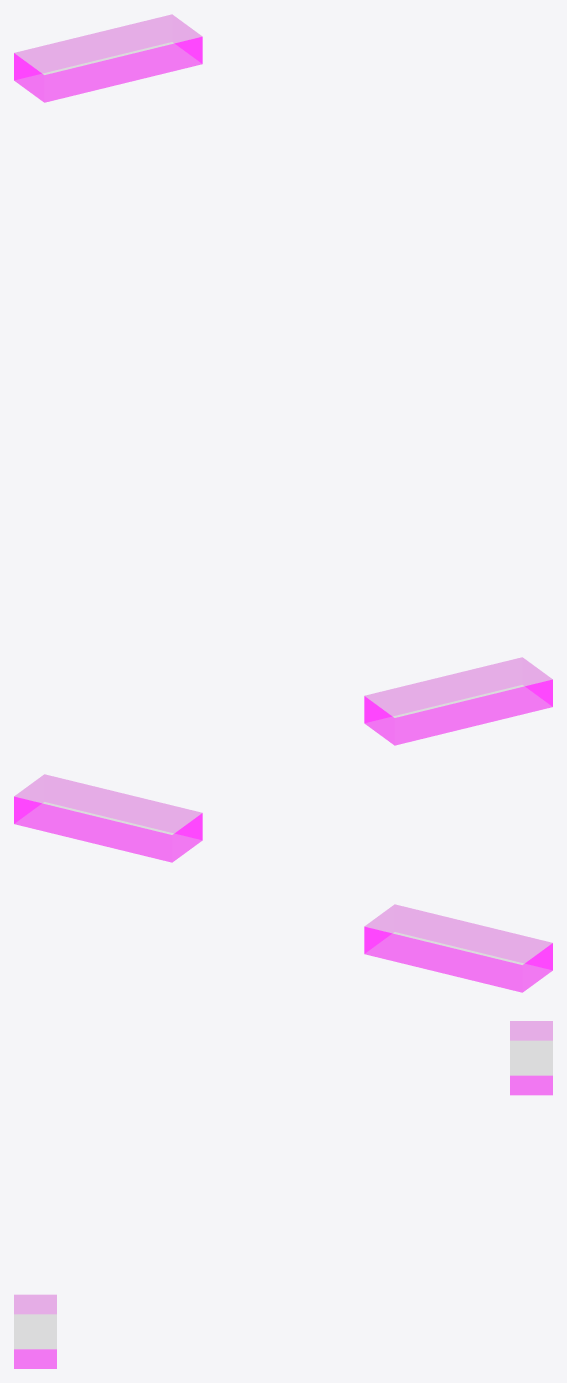
Rendered from (4)H GChanger.fbx.
3 views of the same model, one above another, from view 1: azimuth 30°, elevation 25°; view 2: azimuth 150°, elevation 25°; view 3: azimuth 270°, elevation 25° (orthographic). The views are drawn at different scales.
Visible parts, largest first — view 1: Xjump.002, Xjump.003; view 2: Xjump.002, Xjump.003; view 3: Xjump.002, Xjump.003.
Boxes of the visible parts, bbox=[...] form: Xjump.002: bbox=[364, 657, 552, 745]; Xjump.003: bbox=[14, 14, 202, 102]; Xjump.002: bbox=[364, 904, 552, 992]; Xjump.003: bbox=[14, 774, 202, 862]; Xjump.002: bbox=[14, 1294, 56, 1368]; Xjump.003: bbox=[510, 1021, 552, 1095].
Size of the model in its own units: 600 by 1500 by 2500.
